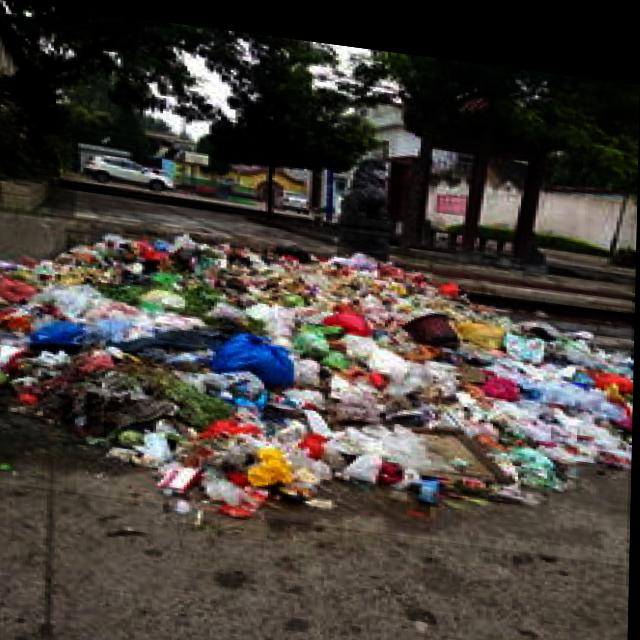garbage: (0, 202, 633, 548)
